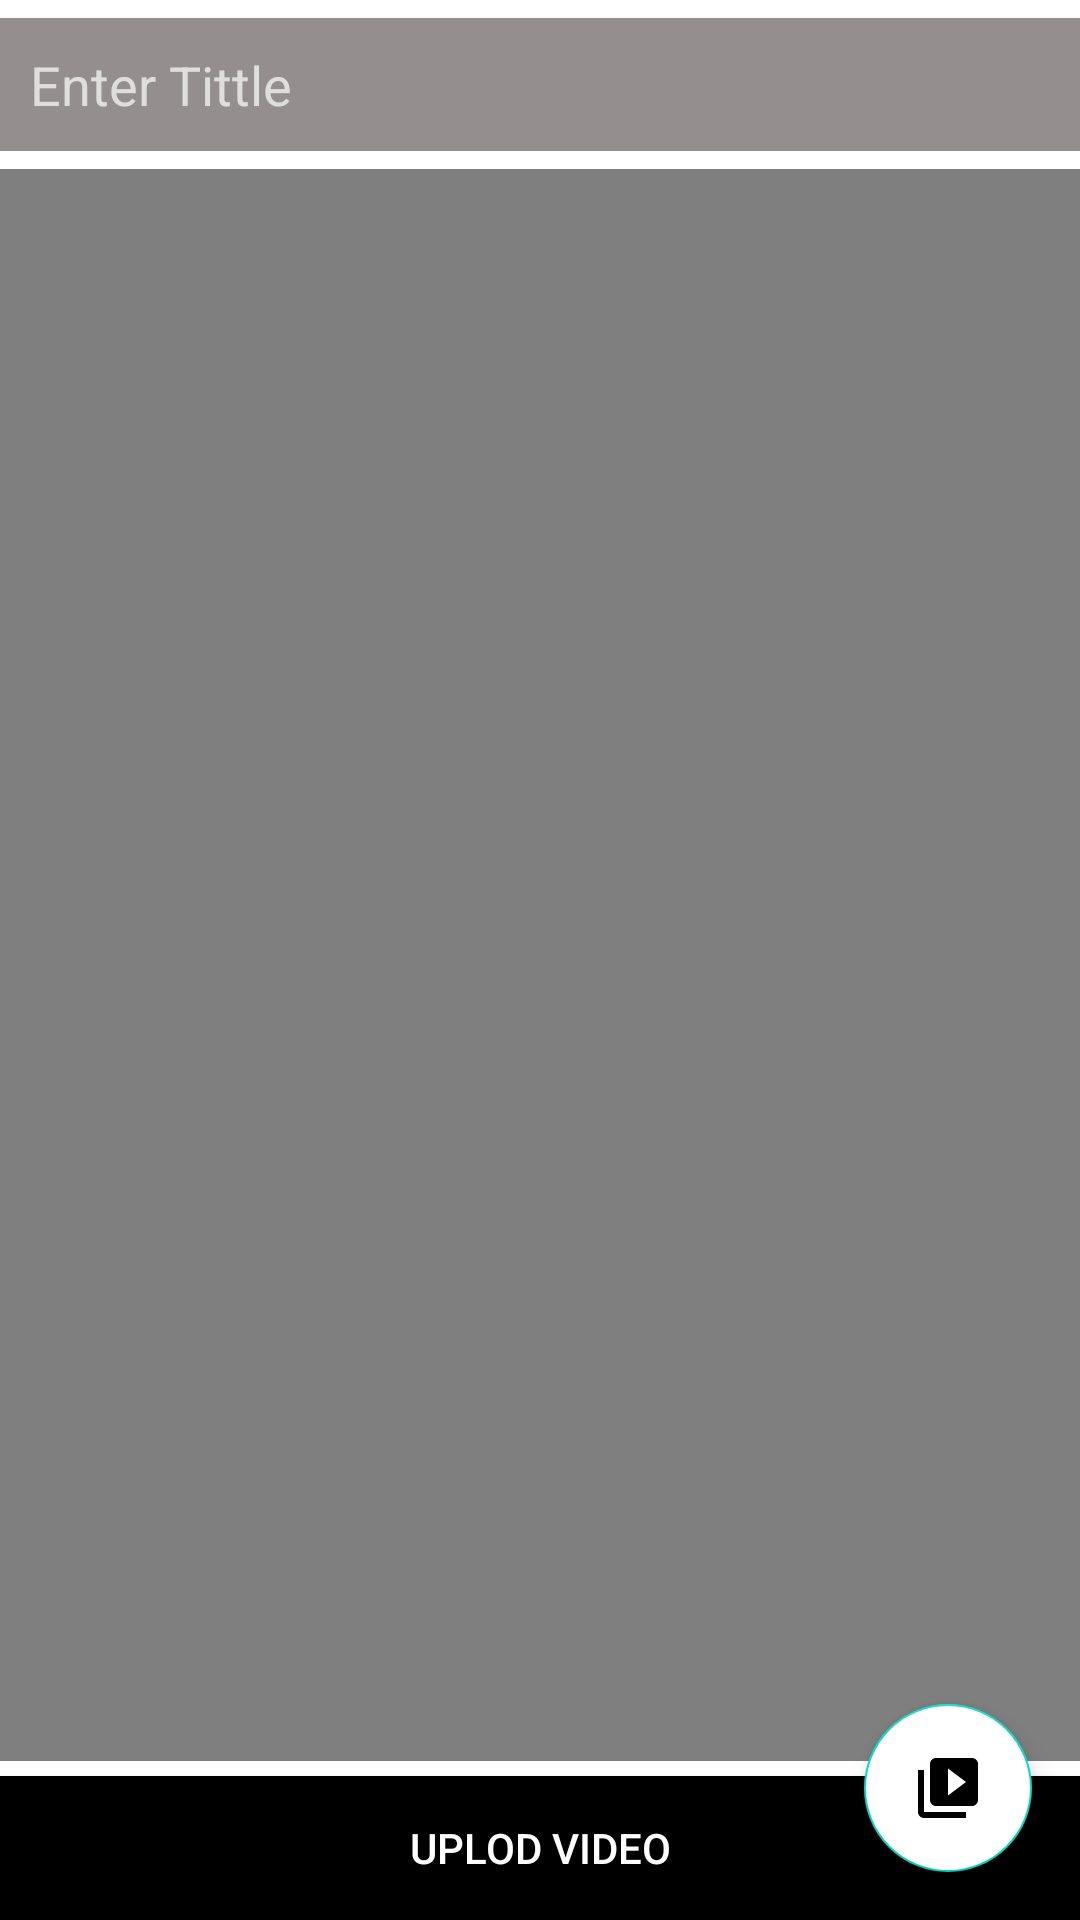

Where to tap for icons on this 1080 × 1920 app screen, as point (x, y):
video library: point (948, 1788)
